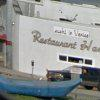Boat: (2, 66, 85, 99)
